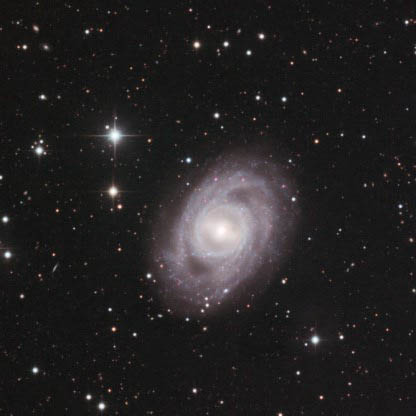Messier 95: (146, 140, 303, 328)
